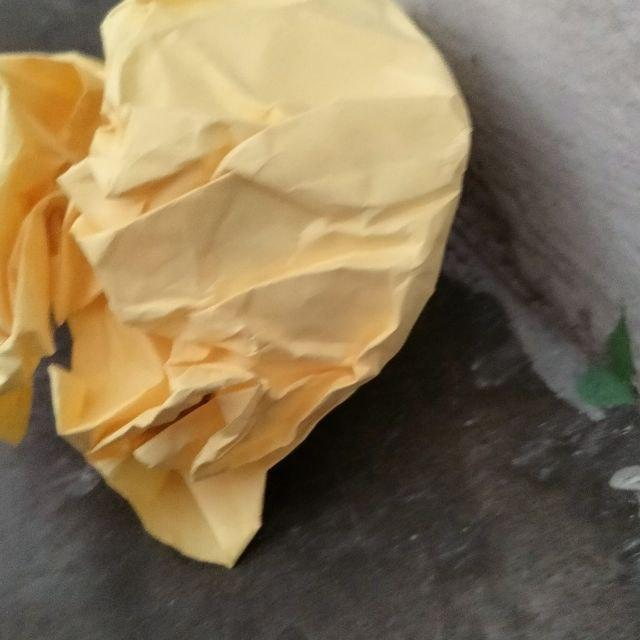paper: (0, 0, 555, 640)
